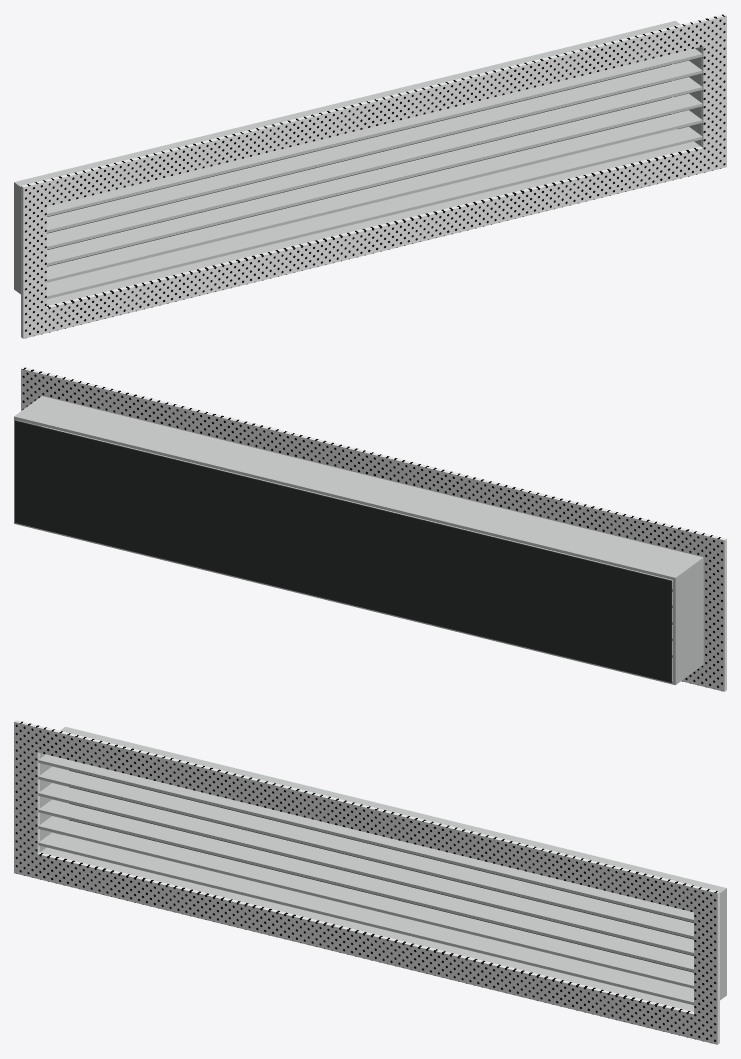
Rendered from ecoclima-ebls-500x75.glb.
3 views of the same model, one above another, from view 1: azimuth 30°, elevation 25°; view 2: azimuth 150°, elevation 25°; view 3: azimuth 330°, elevation 25° (orthographic).
Parts seen in each view (by area): view 1: Profile_cornice, Profile_cornice.001, Profile_barra.002, Profile_barra.003, Profile_barra.004, Profile_barra, Profile_barra.001, Profile_barra.005, Profile_ritorno.001, Profile_ritorno, Interno, Profile_cornice.002 (+3 smaller); view 2: Interno, Profile_ritorno, Profile_cornice, Profile_ritorno.002, Profile_cornice.002, Profile_ritorno.001, Profile_barra.004, Profile_cornice.001; view 3: Profile_cornice, Profile_cornice.001, Profile_barra.002, Profile_barra.003, Profile_barra.004, Profile_barra, Profile_barra.001, Profile_barra.005, Profile_ritorno.001, Profile_ritorno, Interno, Profile_cornice.003 (+3 smaller).
Part boxes in pixels (x1,y1,x2,y2): Profile_cornice: [21, 14, 726, 211]; Profile_cornice.001: [21, 142, 726, 338]; Profile_barra.002: [47, 93, 702, 266]; Profile_barra.003: [47, 77, 702, 249]; Profile_barra.004: [47, 60, 702, 232]; Profile_barra: [47, 126, 702, 299]; Profile_barra.001: [47, 110, 702, 282]; Profile_barra.005: [47, 48, 702, 216]; Profile_ritorno.001: [14, 129, 700, 305]; Profile_ritorno: [14, 20, 680, 189]; Interno: [47, 64, 671, 266]; Profile_cornice.002: [21, 206, 46, 313]; Interno: [15, 420, 672, 682]; Profile_ritorno: [14, 396, 703, 580]; Profile_cornice: [21, 367, 726, 565]; Profile_ritorno.002: [673, 560, 703, 682]; Profile_cornice.002: [703, 560, 726, 666]; Profile_ritorno.001: [14, 521, 703, 685]; Profile_barra.004: [41, 426, 672, 591]; Profile_cornice.001: [681, 662, 726, 691]; Profile_cornice: [14, 720, 719, 917]; Profile_cornice.001: [14, 848, 719, 1044]; Profile_barra.002: [38, 799, 693, 972]; Profile_barra.003: [38, 783, 693, 955]; Profile_barra.004: [38, 766, 693, 938]; Profile_barra: [38, 832, 693, 1005]; Profile_barra.001: [38, 816, 693, 988]; Profile_barra.005: [38, 754, 693, 922]; Profile_ritorno.001: [40, 835, 726, 1011]; Profile_ritorno: [60, 726, 726, 895]; Interno: [69, 770, 693, 972]; Profile_cornice.003: [694, 912, 719, 1019].
Size of the model in its own units: 0.535 by 0.11 by 0.042.
Materials: 3 (1 with a texture image).
